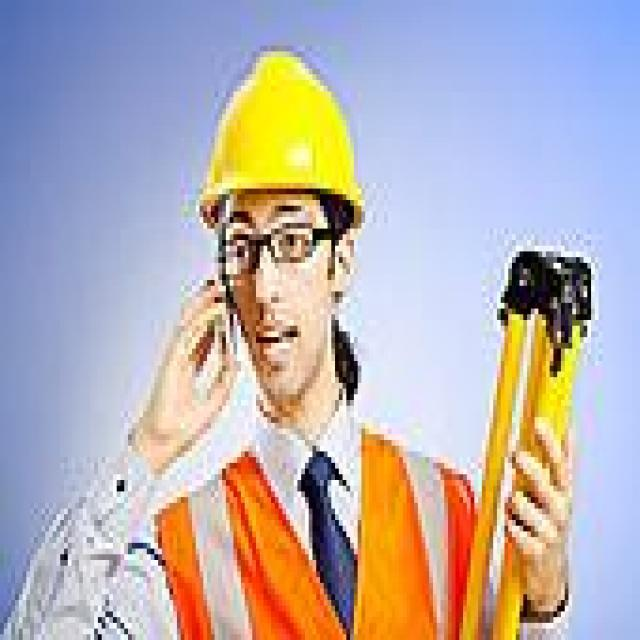reflective_jacket: (146, 411, 485, 639)
safety_helmet: (192, 45, 372, 234)
